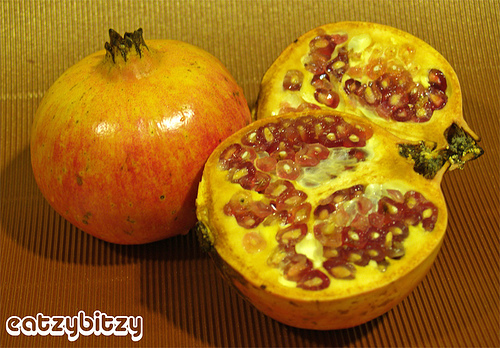pomogranate: (194, 108, 451, 333), (31, 30, 253, 247), (261, 19, 484, 179)
